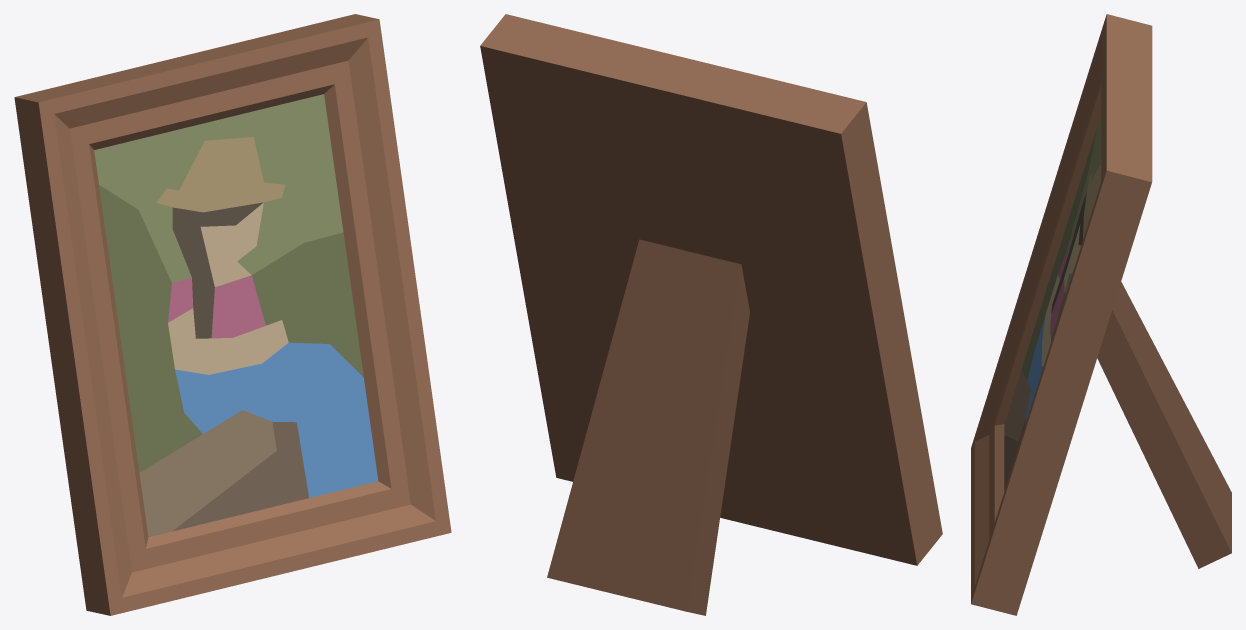
File: SM_Prop_Art_Standing_02.fbx
The picture shows the model from 3 angles, left to right: view 1: azimuth 30°, elevation 25°; view 2: azimuth 150°, elevation 25°; view 3: azimuth 270°, elevation 25°; orthographic projection. The views are drawn at different scales.
Parts seen in each view (by area): view 1: SM_Prop_Art_Standing_02; view 2: SM_Prop_Art_Standing_02; view 3: SM_Prop_Art_Standing_02.
Boxes of the visible parts, <box> form: SM_Prop_Art_Standing_02: <box>14,14,451,615</box>; SM_Prop_Art_Standing_02: <box>480,14,942,615</box>; SM_Prop_Art_Standing_02: <box>971,14,1231,615</box>.
Bounding box in the file's own units: 33.57 × 44.67 × 23.62.
